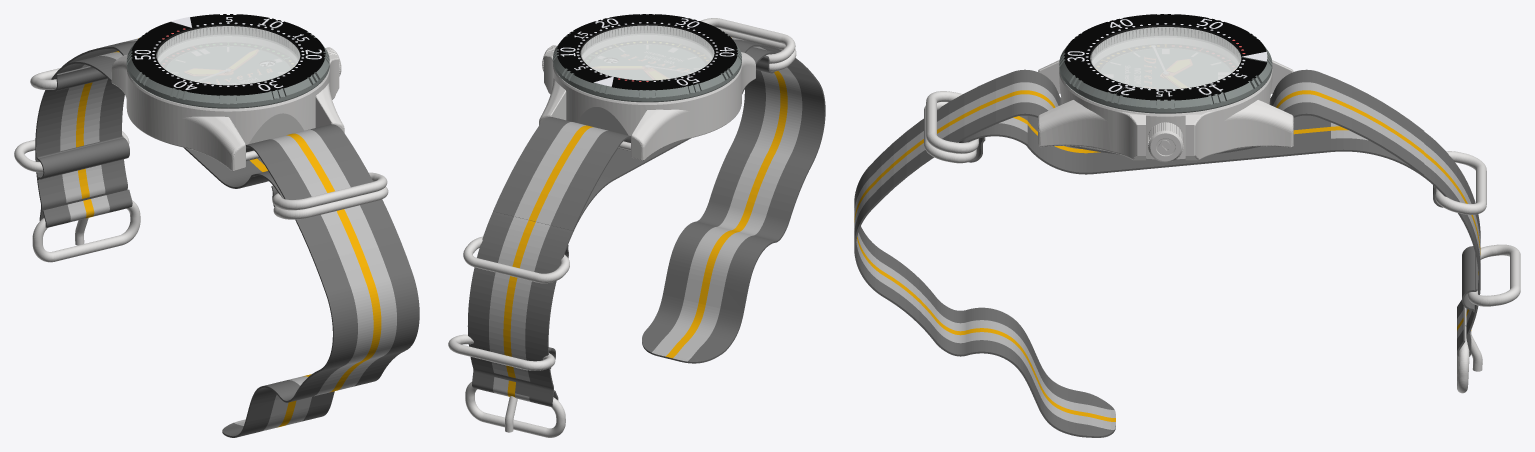
The model's file is chrono.glb.
3 renders of one model, left to right at view 1: azimuth 30°, elevation 25°; view 2: azimuth 150°, elevation 25°; view 3: azimuth 270°, elevation 25°, orthographic. The views are drawn at different scales.
Visible parts, largest first — view 1: Node7, Node1, Node8, Node19, Node6, Node17, Node5, Node15, Node4; view 2: Node7, Node8, Node1, Node19, Node6, Node17, Node5, Node15, Node4; view 3: Node7, Node1, Node8, Node19, Node6, Node5, Node17, Node4, Node15.
Part boxes in pixels (<box>): Node7: <box>35,41,419,437</box>; Node1: <box>14,47,388,262</box>; Node8: <box>60,38,396,431</box>; Node19: <box>156,26,300,85</box>; Node6: <box>131,14,325,95</box>; Node17: <box>76,38,381,427</box>; Node5: <box>126,14,329,108</box>; Node15: <box>134,17,321,90</box>; Node4: <box>156,24,300,56</box>; Node7: <box>467,39,825,406</box>; Node8: <box>489,37,802,401</box>; Node1: <box>448,18,796,437</box>; Node19: <box>580,25,714,80</box>; Node6: <box>557,14,737,90</box>; Node17: <box>503,37,787,397</box>; Node5: <box>553,19,741,102</box>; Node15: <box>560,18,734,86</box>; Node4: <box>580,23,714,54</box>; Node7: <box>854,69,1480,437</box>; Node1: <box>924,60,1520,393</box>; Node8: <box>854,82,1480,429</box>; Node19: <box>1090,27,1241,89</box>; Node6: <box>1064,14,1266,100</box>; Node5: <box>1059,18,1272,113</box>; Node17: <box>854,90,1480,421</box>; Node4: <box>1090,25,1241,60</box>; Node15: <box>1067,18,1267,96</box>.
Bounding box in the file's own units: 49.6 × 85.05 × 141.
